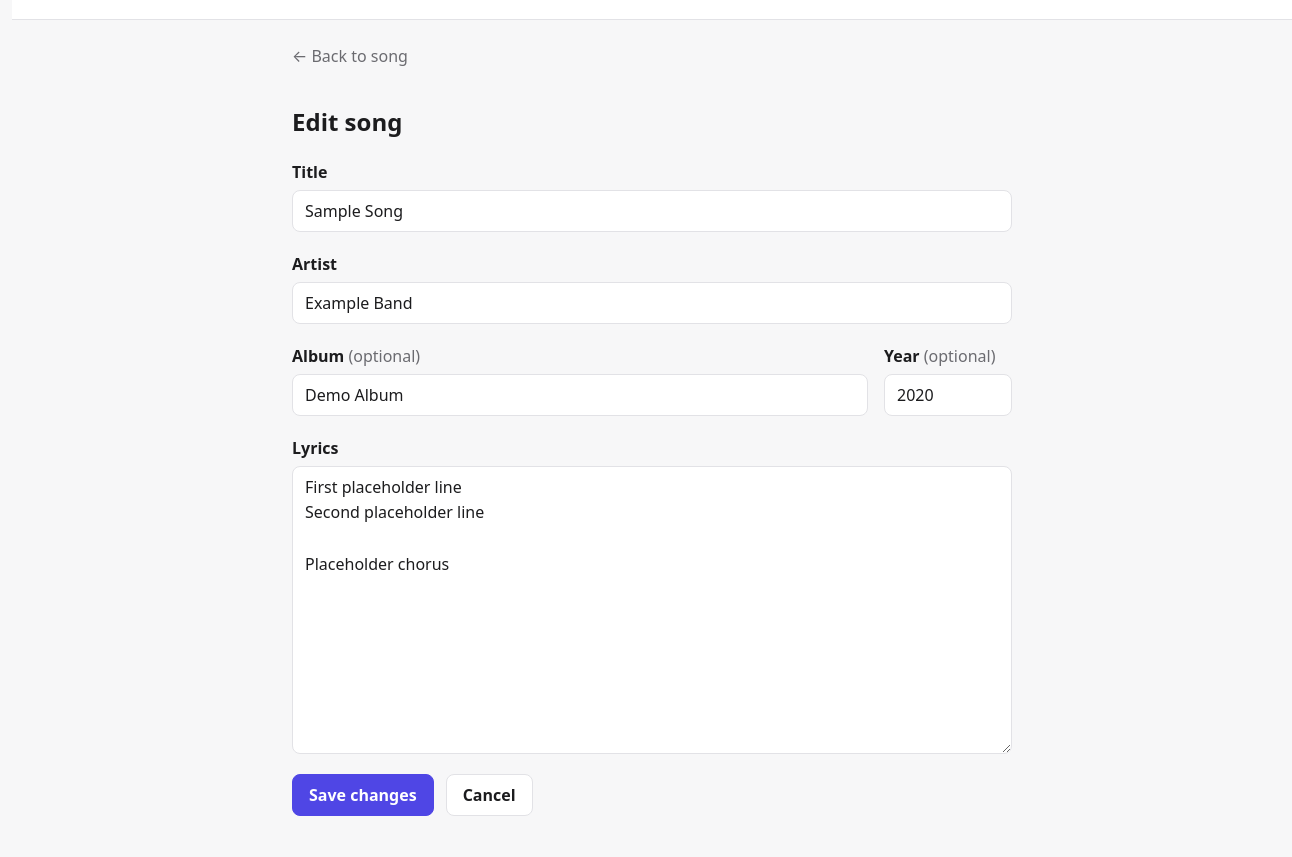
Test: SongFormPage — edit › loads the song into the form and saves changes
The width and height of the screenshot is (1292, 857).
Expected: the field labelled "Artist" holds "Example Band", x1=292 y1=282 x2=1012 y2=324
Expected: the field labelled "Album (optional)" holds "Demo Album", x1=292 y1=374 x2=868 y2=416
Replace the text in the field labelled "Title" with "Renamed Sample": {"x": 652, "y": 211} x1=292 y1=190 x2=1012 y2=232
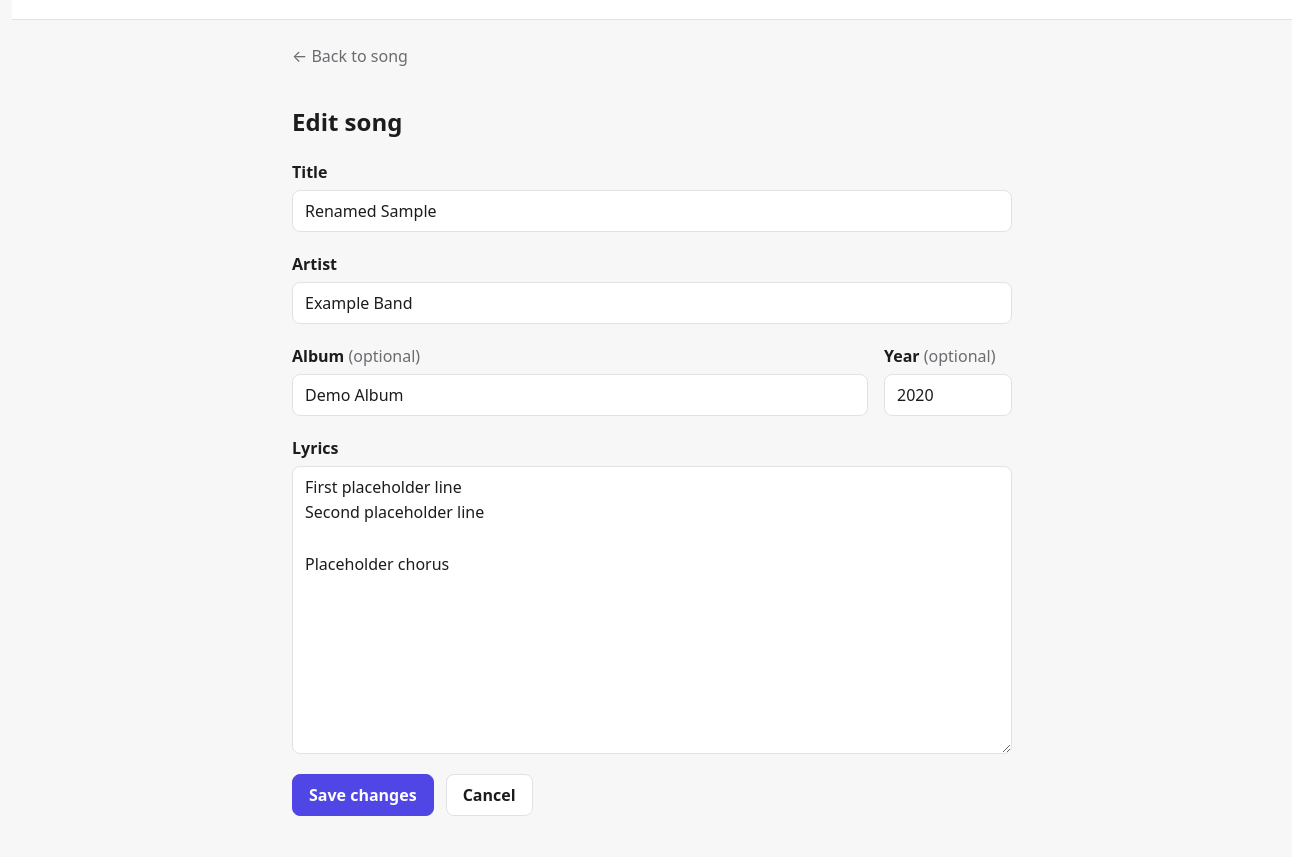
Clear the field labelled "Album (optional)": {"x": 580, "y": 395} x1=292 y1=374 x2=868 y2=416
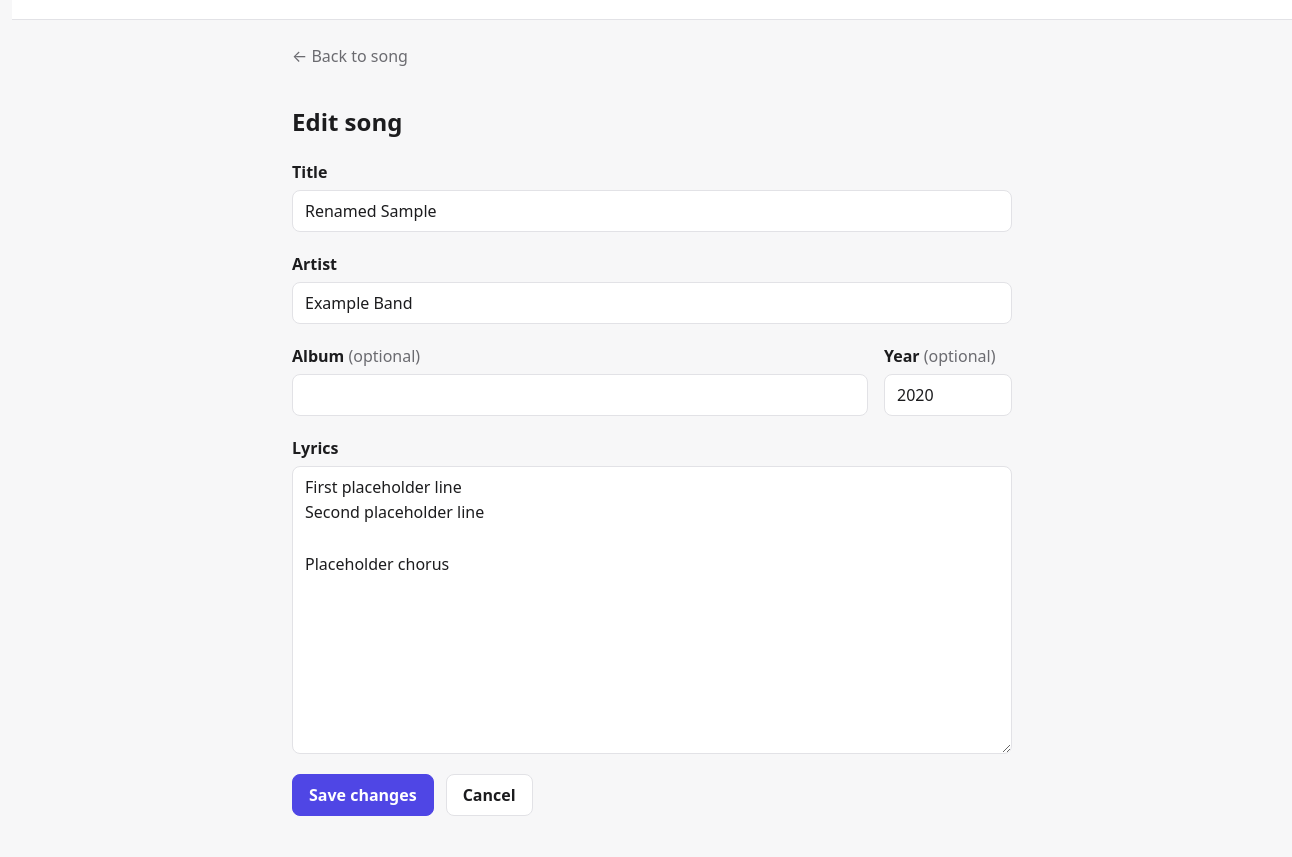
Click the button "Save changes": {"x": 363, "y": 795} x1=292 y1=774 x2=434 y2=816
(page scrolled)
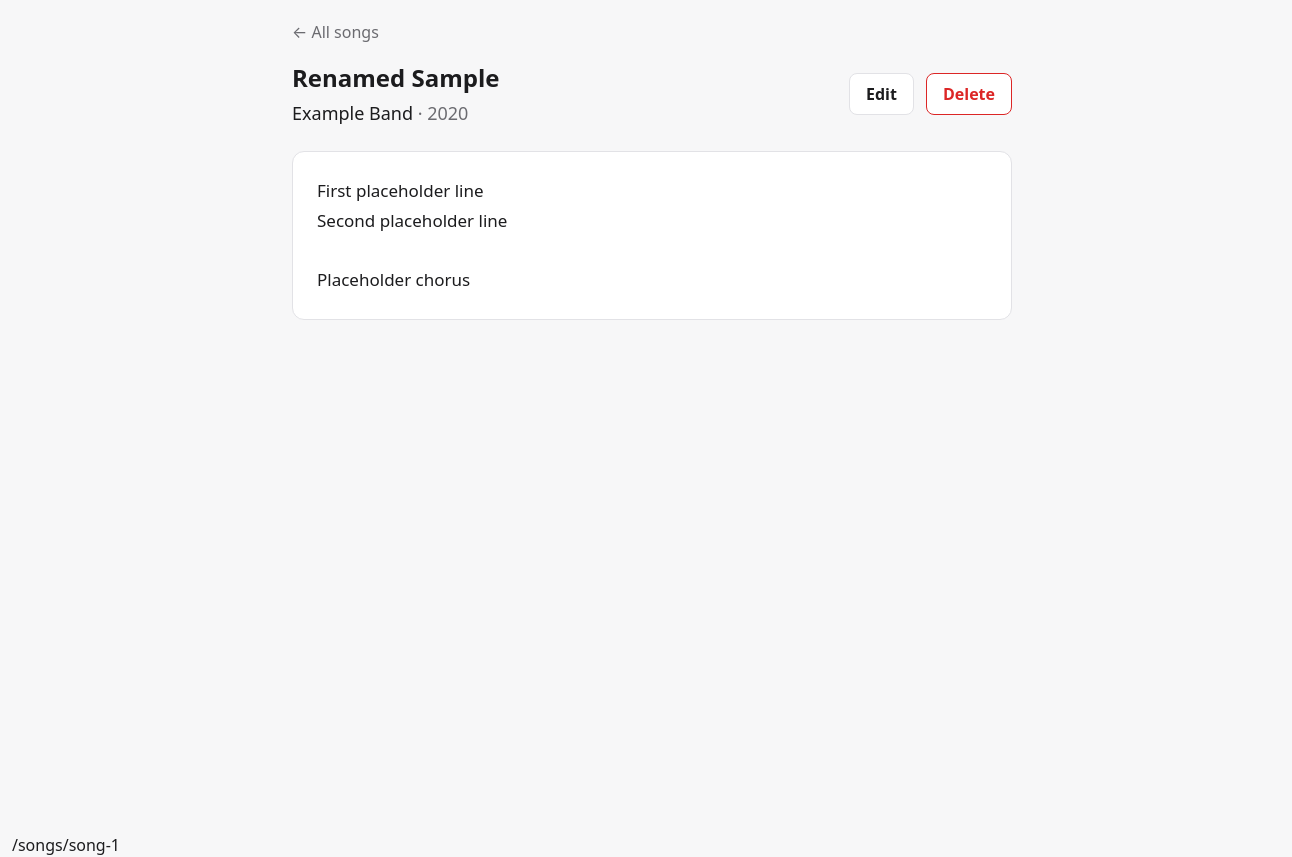
Expected: the heading "Renamed Sample" is shown, x1=292 y1=60 x2=500 y2=96
Expected: the text with test id "location" reads "/songs/song-1", x1=12 y1=834 x2=120 y2=856
